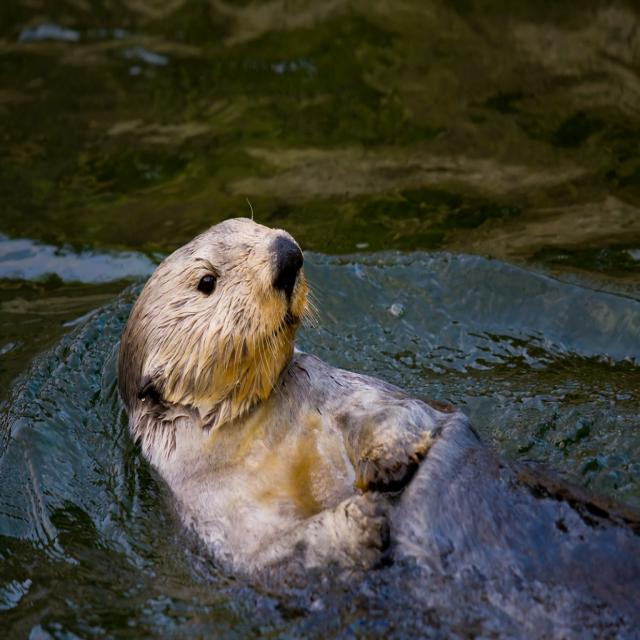otter: (123, 217, 451, 586)
